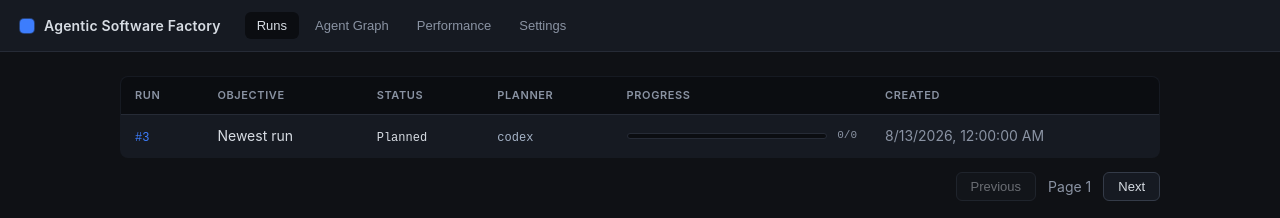
Runs pagination › loads the next page with the cursor and returns through the cursor stack
This screenshot has width=1280, height=218.
Check: the text "Newest run" is shown, box [204,114,363,157]
Click the button "Next": (1132,186) [1103,172,1160,200]
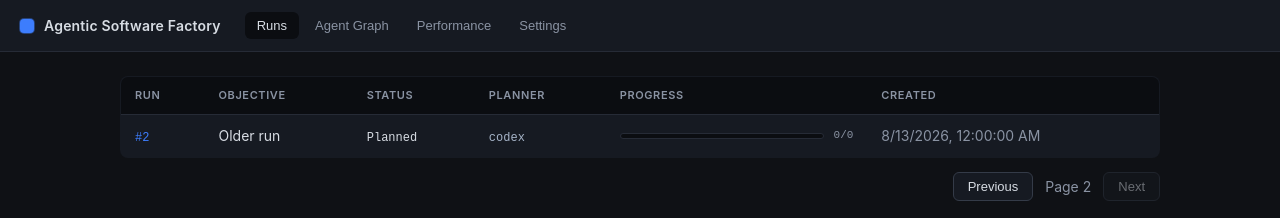
Check: the text "Older run" is shown, box [204,114,353,157]
Check: the text "Page 2" is shown, box [1045,176,1091,196]
Check: the button "Next" is disabled, box [1103,172,1160,200]
Click the button "Previous": (993,186) [953,172,1033,200]
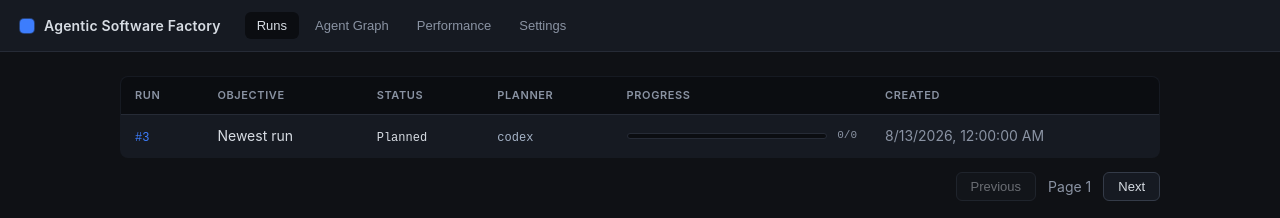
Check: the text "Newest run" is shown, box [204,114,363,157]
Check: the text "Page 1" is shown, box [1048,176,1091,196]
Check: the button "Previous" is disabled, box [956,172,1036,200]
